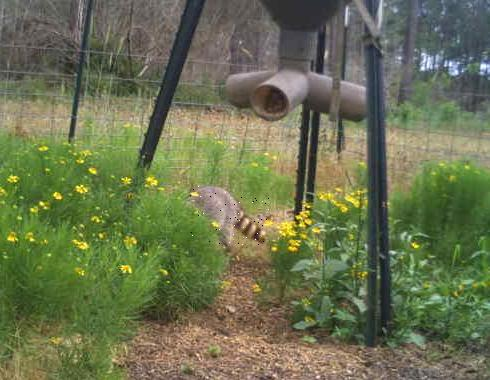Raccoon: (188, 183, 270, 248)
